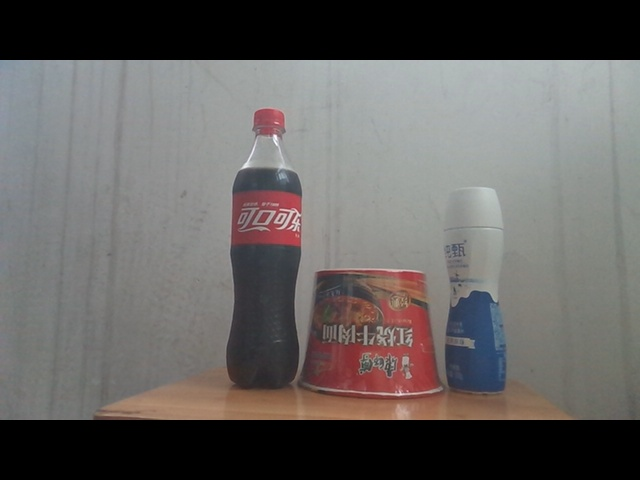cola: (229, 106, 301, 390)
kangshifu: (300, 269, 447, 398)
yogurt: (444, 185, 506, 397)
